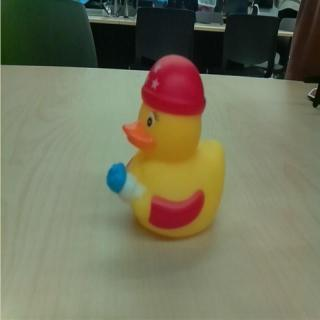duck_specialty: (106, 53, 228, 241)
